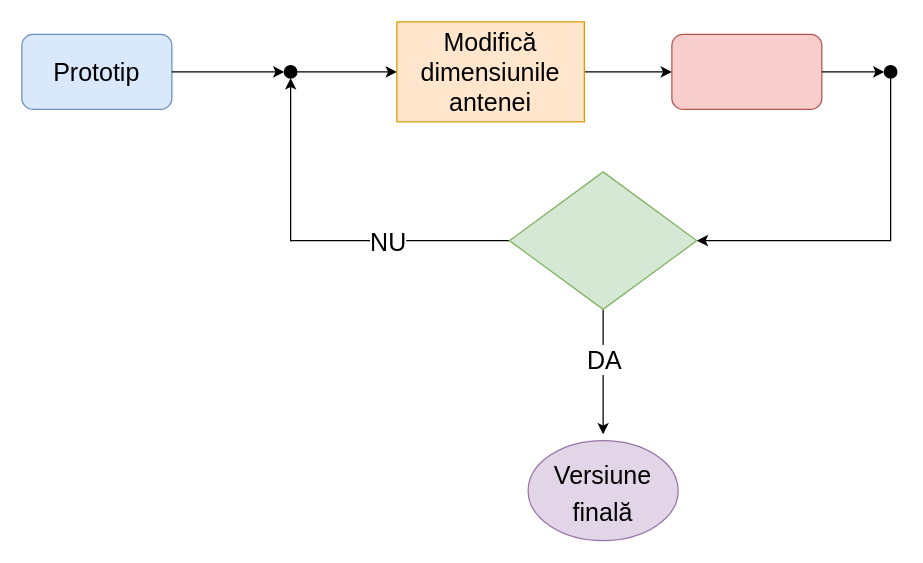
Some shapes in this 923 by 563 pixel diagram are drawn without their labels. Here are the shapes that lost their labels. From the top down, the centre of each, then its label:
At (x=746, y=71): "Prototip îmbunătățit".
At (x=602, y=240): "Parametrii doriți?".
